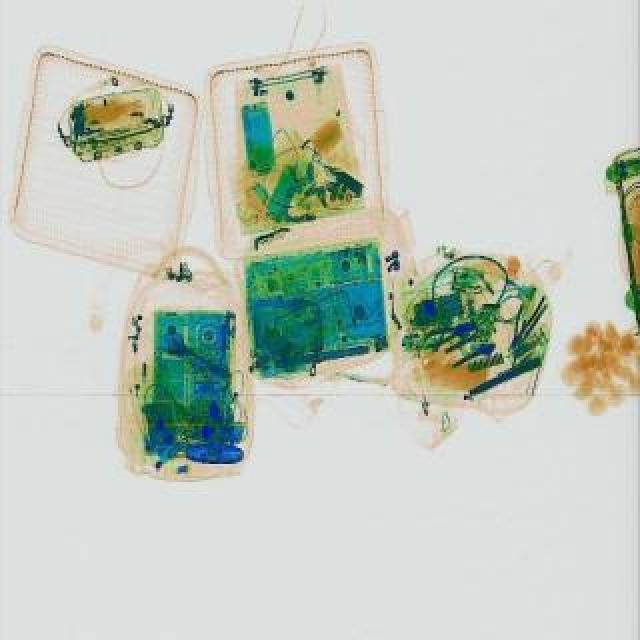scissors: (452, 342, 500, 376)
wrench: (502, 294, 542, 358), (424, 316, 482, 352)
